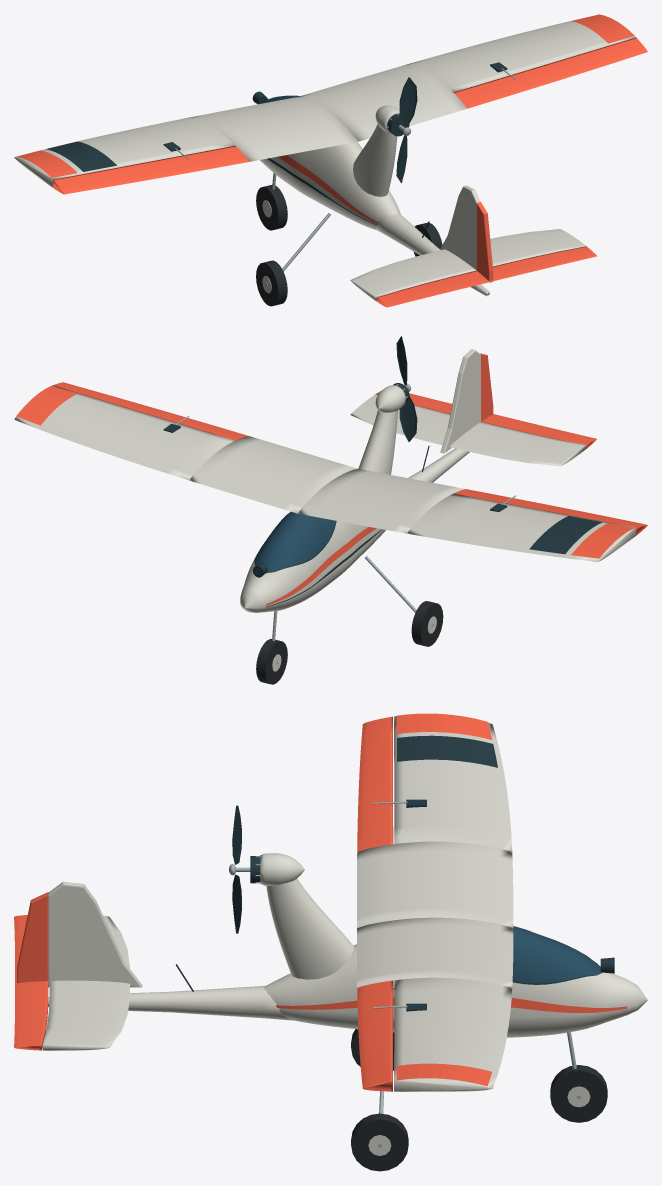
Rendered from rift-s75.glb.
3 views of the same model, one above another, from view 1: azimuth 30°, elevation 25°; view 2: azimuth 150°, elevation 25°; view 3: azimuth 270°, elevation 25° (orthographic). The views are drawn at different scales.
Parts seen in each view (by area): view 1: S75_static_shell_0, S75_aileron_panel (×2), S75_elevator_panel, S75_static_shell_5, S75_static_shell_3, S75_static_shell_2, S75_rudder_panel, S75_twisted_pusher_blade, S75_static_shell_4; view 2: S75_static_shell_0, S75_static_shell_1, S75_aileron_panel (×2), S75_static_shell_3, S75_static_shell_2, S75_static_shell_5, S75_elevator_panel, S75_rudder_panel, S75_twisted_pusher_blade, S75_static_shell_4; view 3: S75_static_shell_0, S75_aileron_panel (×2), S75_static_shell_5, S75_static_shell_3, S75_static_shell_2, S75_static_shell_1, S75_elevator_panel, S75_rudder_panel, S75_static_shell_4.
Part boxes in pixels (box(x1,y1,x2,y2)): S75_static_shell_0: box(14, 21, 635, 301); S75_aileron_panel (×2): box(53, 37, 647, 194); S75_elevator_panel: box(376, 246, 596, 307); S75_static_shell_5: box(256, 185, 442, 306); S75_static_shell_3: box(16, 14, 634, 223); S75_static_shell_2: box(46, 62, 507, 237); S75_rudder_panel: box(477, 202, 493, 282); S75_twisted_pusher_blade: box(399, 77, 417, 125); S75_static_shell_4: box(175, 68, 515, 286); S75_static_shell_0: box(14, 349, 635, 671); S75_static_shell_1: box(254, 511, 335, 575); S75_aileron_panel (×2): box(53, 382, 647, 535); S75_static_shell_3: box(16, 385, 634, 605); S75_static_shell_2: box(163, 383, 602, 607); S75_static_shell_5: box(256, 601, 443, 684); S75_elevator_panel: box(376, 390, 596, 448); S75_rudder_panel: box(480, 353, 493, 421); S75_twisted_pusher_blade: box(399, 396, 417, 441); S75_static_shell_4: box(175, 383, 515, 664); S75_static_shell_0: box(42, 716, 647, 1155); S75_aileron_panel (×2): box(357, 716, 393, 1091); S75_static_shell_5: box(351, 1029, 607, 1171); S75_static_shell_3: box(276, 713, 627, 1086); S75_static_shell_2: box(176, 735, 614, 1011); S75_static_shell_1: box(512, 926, 602, 983); S75_elevator_panel: box(14, 915, 48, 1050); S75_rudder_panel: box(17, 892, 48, 982); S75_static_shell_4: box(229, 801, 581, 1147).
Size of the model in its own units: 0.75 by 0.3035 by 0.551.
